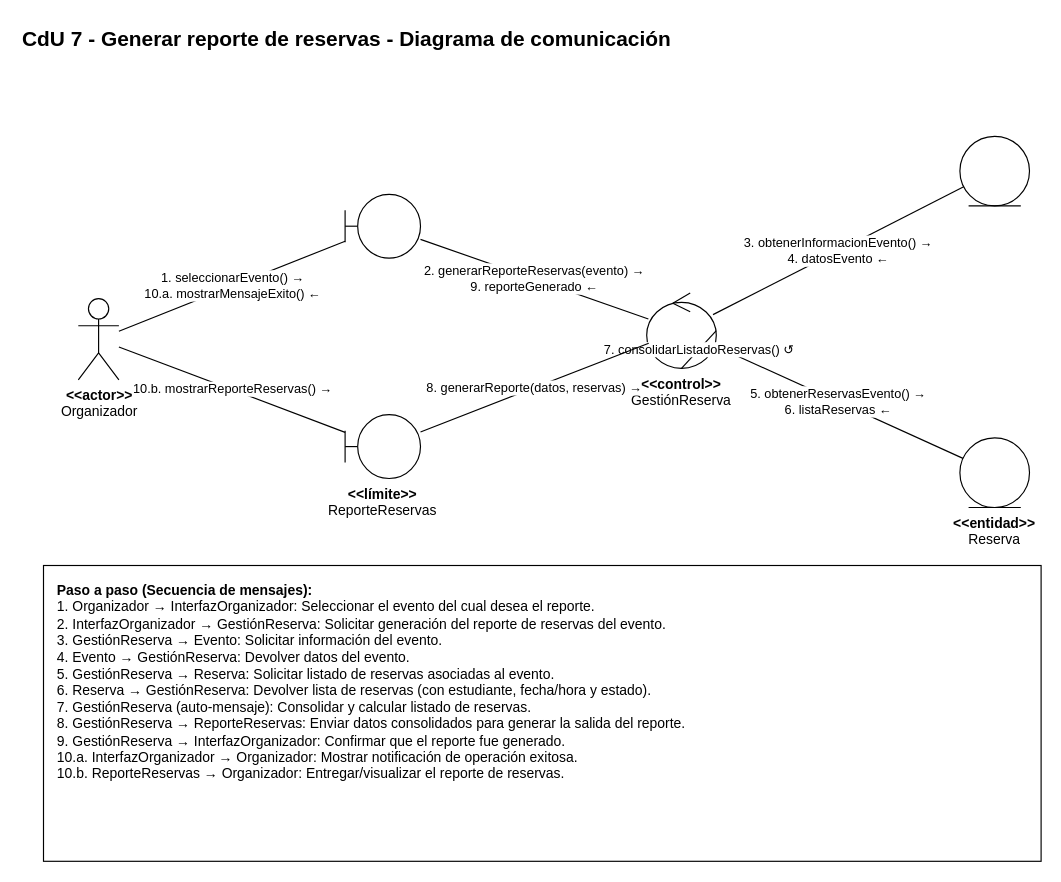
The diagram is 1061 pixels wide and 882 high, and some of its shapes have lost their labels. The shapes that lost their labels are listed below. From the top down, each one's box as (x1, y1, x2, y2) in pixels, then its label:
(959, 135, 1030, 206): <<entidad>> Evento
(344, 193, 420, 258): <<límite>> InterfazOrganizador
